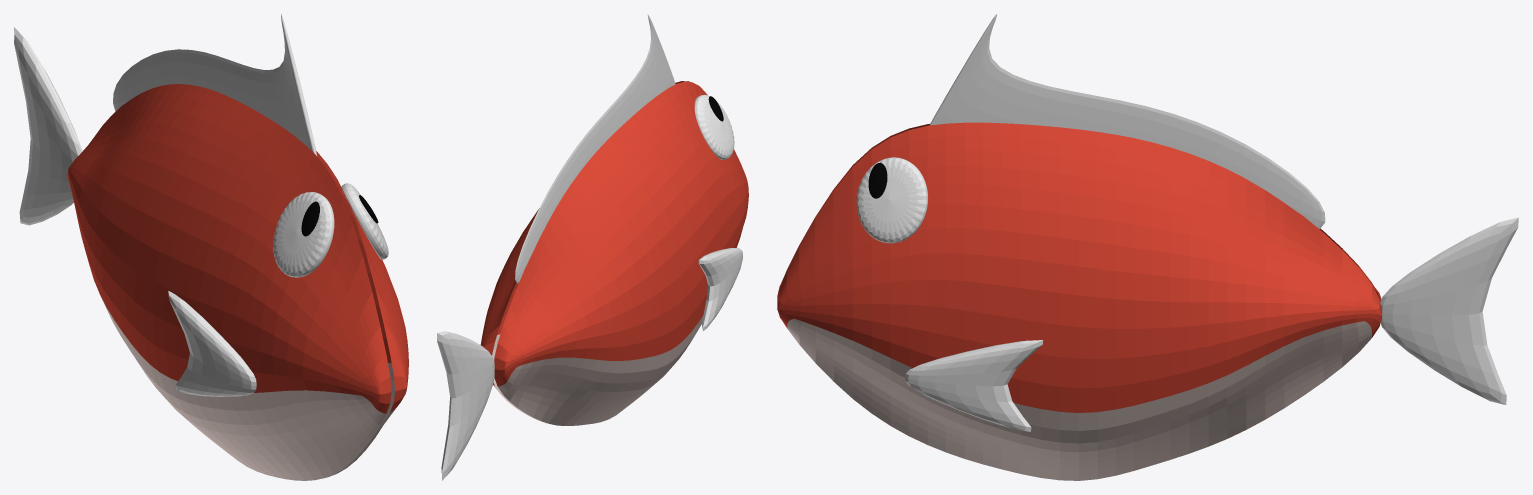
The model's file is fish08A7.fbx.
The picture shows the model from 3 angles, left to right: view 1: azimuth 30°, elevation 25°; view 2: azimuth 150°, elevation 25°; view 3: azimuth 270°, elevation 25°; orthographic projection. The views are drawn at different scales.
Visible parts, largest first — view 1: body-fish8A, hire-top, hire-end, hire-end.002, eye2.005, eye2.003; view 2: body-fish8A, hire-top, hire-end, hire-end.002, eye2.005; view 3: body-fish8A, hire-top, hire-end, hire-end.001, eye2.003.
Part boxes in pixels (x1,y1,x2,y2): body-fish8A: (67,84,408,480); hire-top: (113,14,317,156); hire-end: (14,27,82,225); hire-end.002: (168,291,256,396); eye2.005: (273,192,334,277); eye2.003: (341,183,388,259); body-fish8A: (480,81,748,425); hire-top: (515,14,675,283); hire-end: (437,331,494,480); hire-end.002: (698,247,742,330); eye2.005: (694,95,734,159); body-fish8A: (777,122,1381,480); hire-top: (929,14,1325,229); hire-end: (1380,217,1518,404); hire-end.001: (905,340,1043,431); eye2.003: (856,157,928,243).
Bounding box in the file's own units: 3.92 × 9.6 × 13.84.
